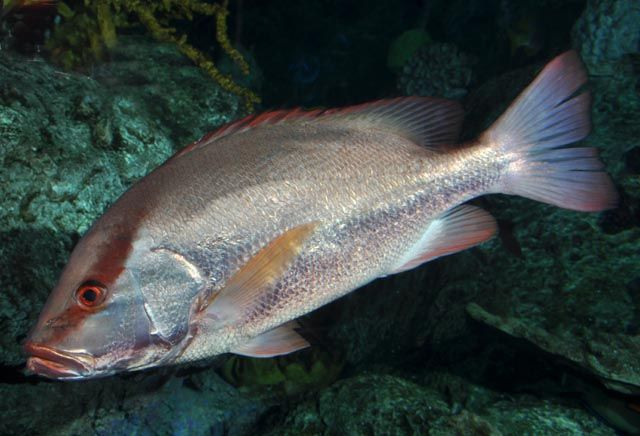fish: (21, 48, 632, 381)
